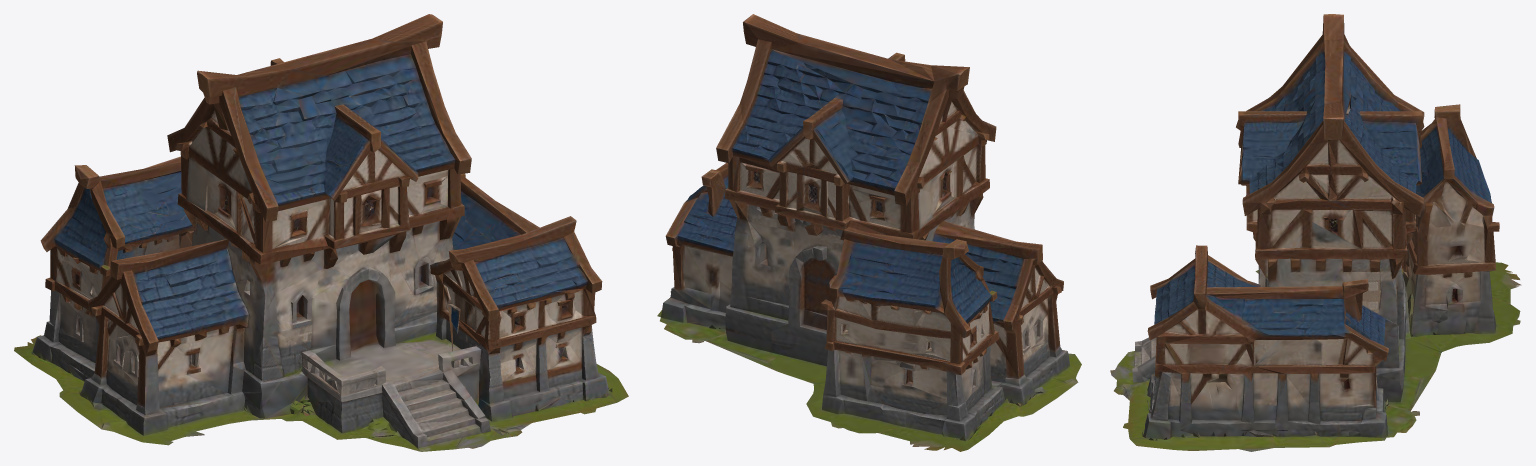
File: towncenter.glb
3 renders of one model, left to right at view 1: azimuth 30°, elevation 25°; view 2: azimuth 150°, elevation 25°; view 3: azimuth 270°, elevation 25°, orthographic. The views are drawn at different scales.
Bounding box in the file's own units: 1.9 × 1.32 × 1.68.
1 material, 1 textured.
